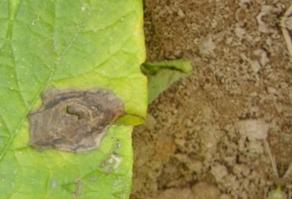Tomato Early blight leaf: (0, 0, 175, 199)
